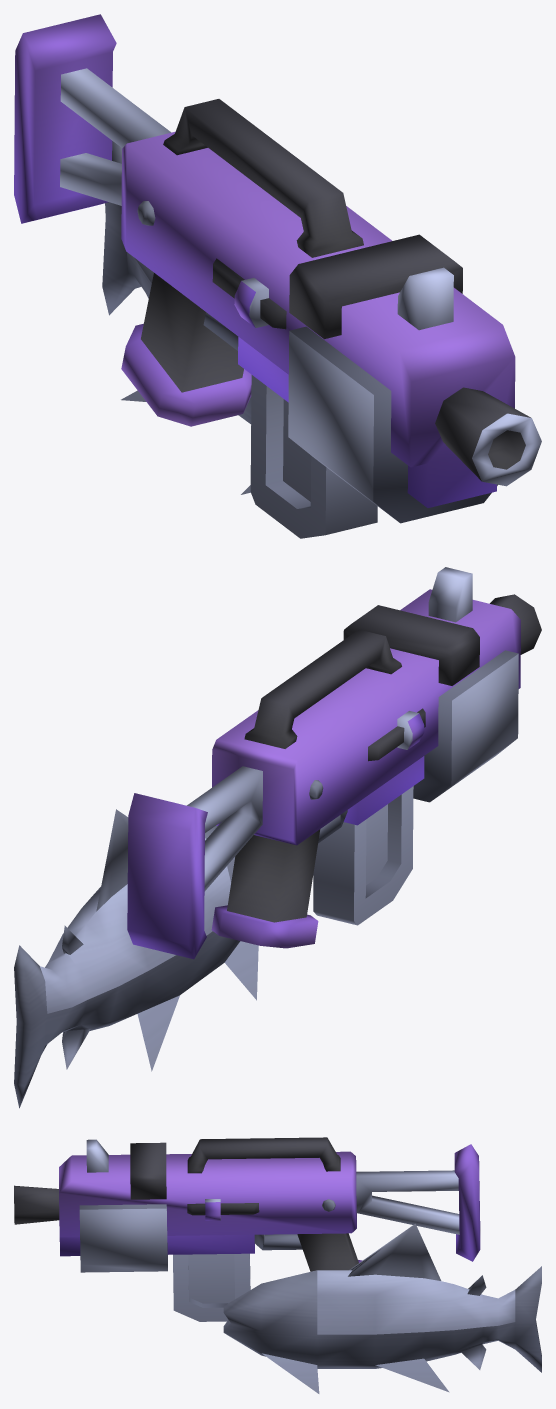
The model's file is fish_gun.glb.
3 renders of one model, top to bottom at view 1: azimuth 30°, elevation 25°; view 2: azimuth 150°, elevation 25°; view 3: azimuth 270°, elevation 25°, orthographic. The views are drawn at different scales.
Parts seen in each view (by area): view 1: blaster-d, fish; view 2: blaster-d, fish; view 3: blaster-d, fish.
Boxes of the visible parts, x1=… form: blaster-d: x1=14, y1=14, x2=541, y2=538; fish: x1=102, y1=141, x2=251, y2=494; blaster-d: x1=127, y1=567, x2=541, y2=959; fish: x1=14, y1=809, x2=258, y2=1108; blaster-d: x1=14, y1=1137, x2=480, y2=1321; fish: x1=223, y1=1223, x2=541, y2=1393.
Size of the model in its own units: 0.3159 by 0.4354 by 1.03.
2 materials, 2 textured.
